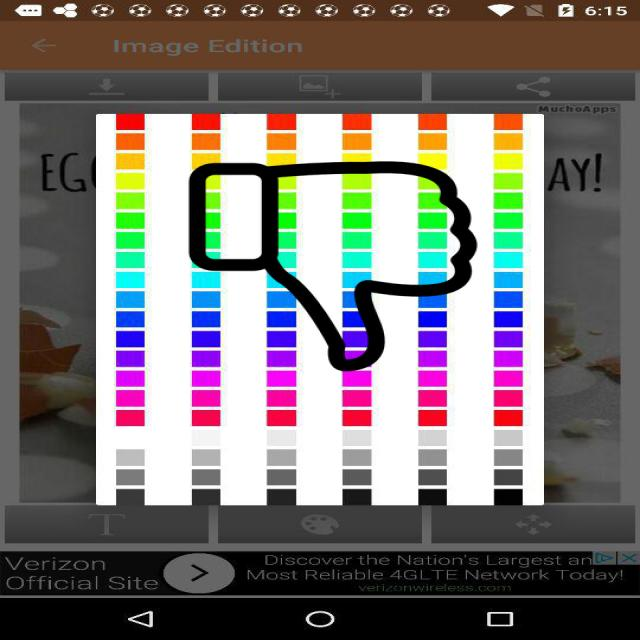obstruction: (185, 162, 481, 372)
